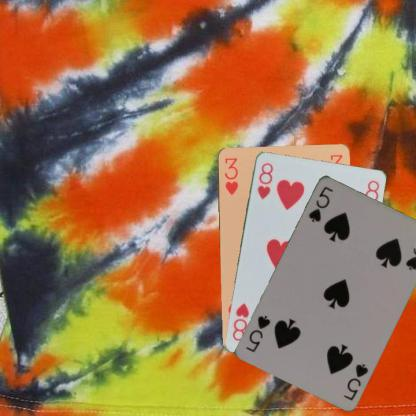3h: (221, 155, 239, 196)
5s: (341, 360, 370, 402), (306, 183, 335, 223)
8h: (254, 160, 274, 201)
